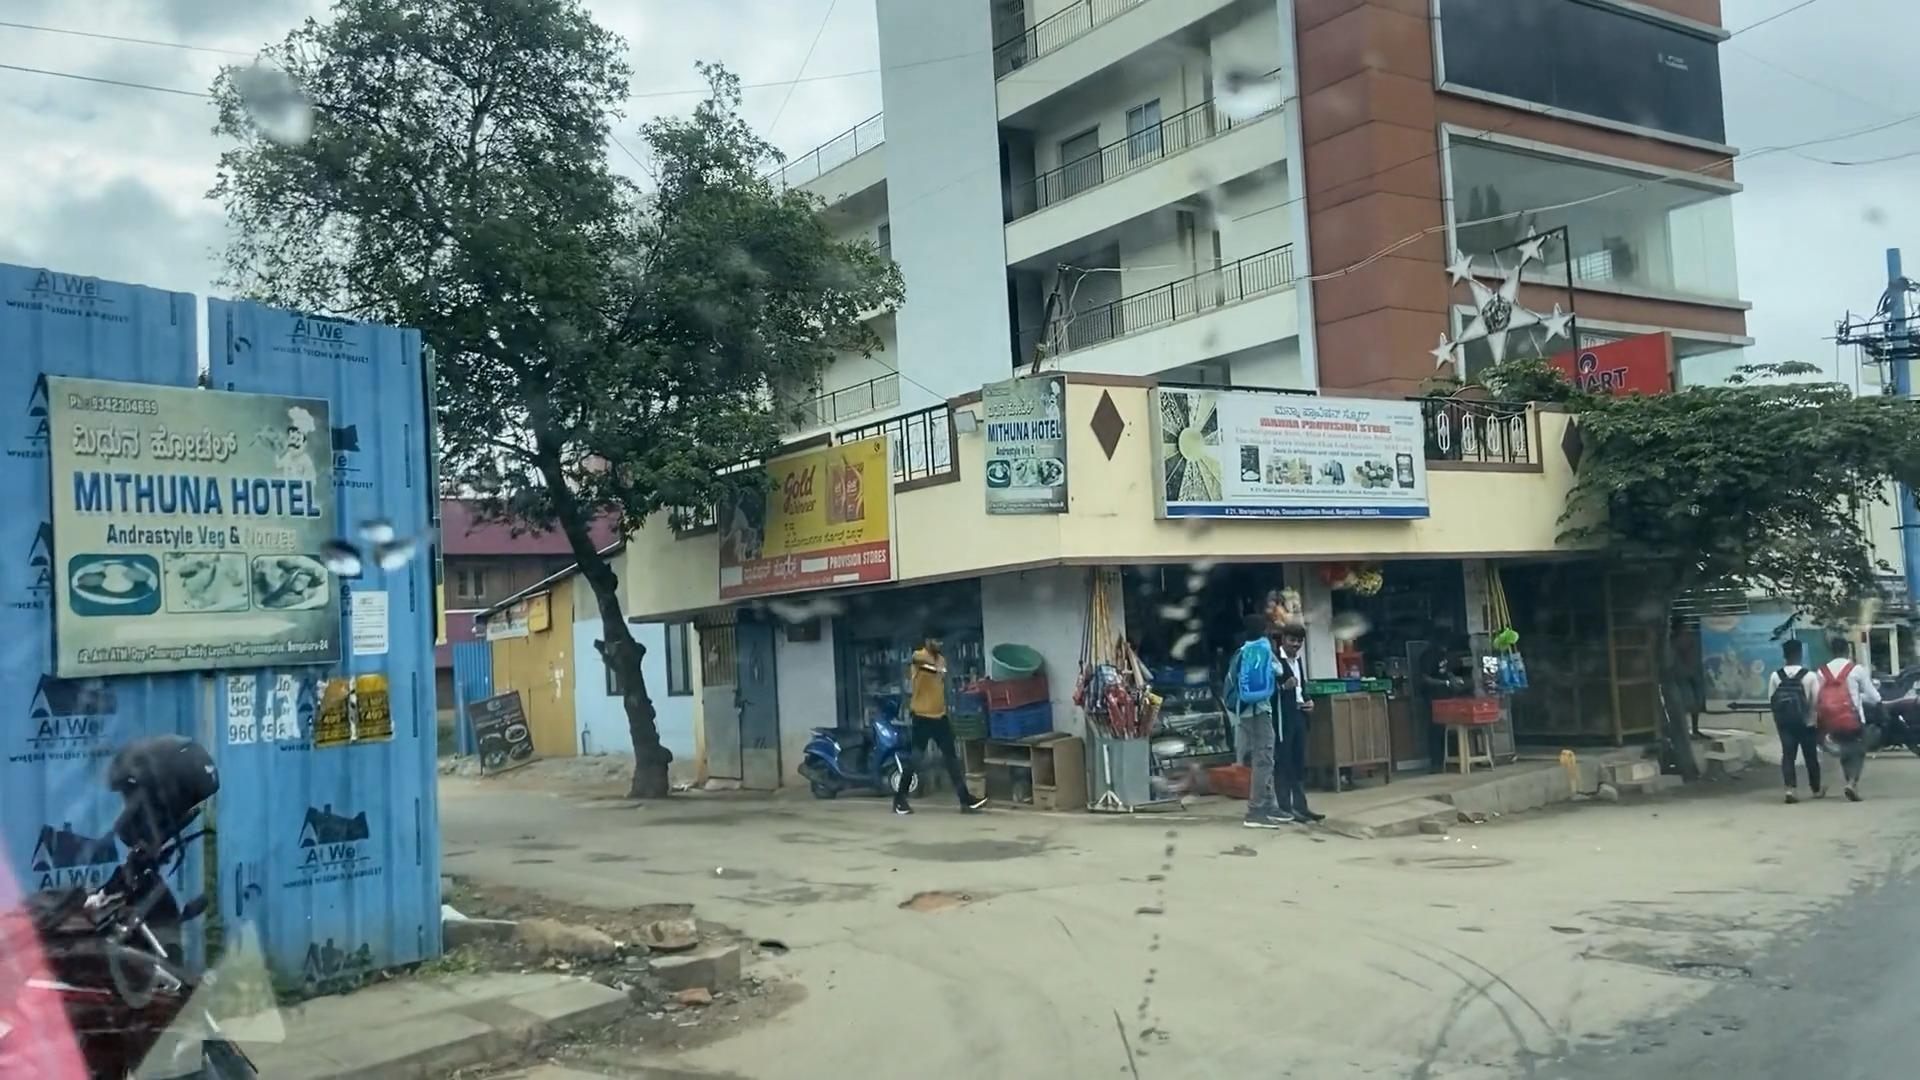RoadDamages: (650, 890, 800, 1076), (901, 870, 973, 940)
